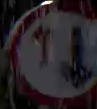Two way: (9, 9, 96, 106)
